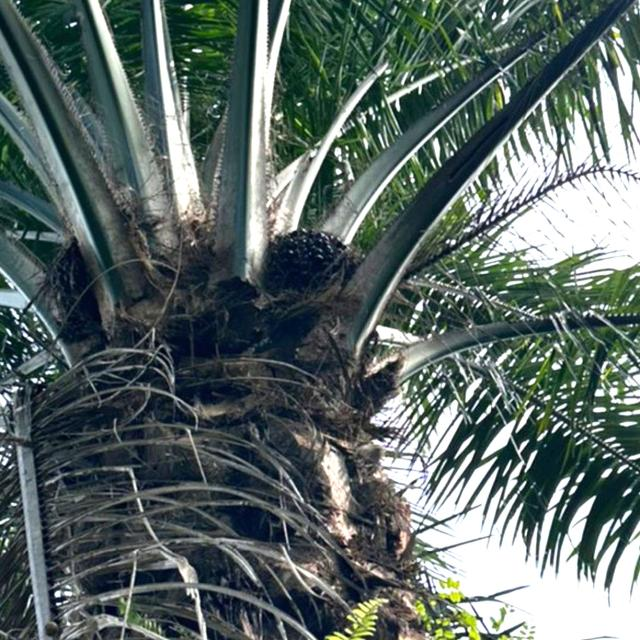almost: (250, 218, 369, 322)
